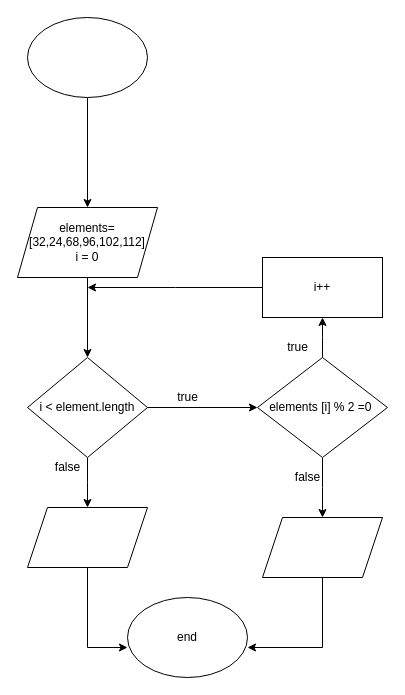
Image size: 405x695. Some labels were removed from this diagram. Each missing label, with the centre of its shape:
print false: (x=322, y=547)
print true: (x=87, y=537)
start: (x=87, y=57)
